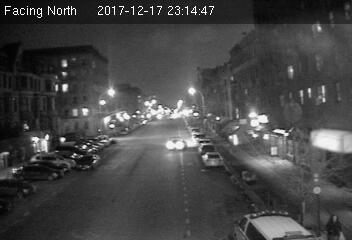car: (75, 154, 100, 171), (165, 137, 188, 153), (200, 151, 222, 165)
police: (223, 207, 318, 240)
